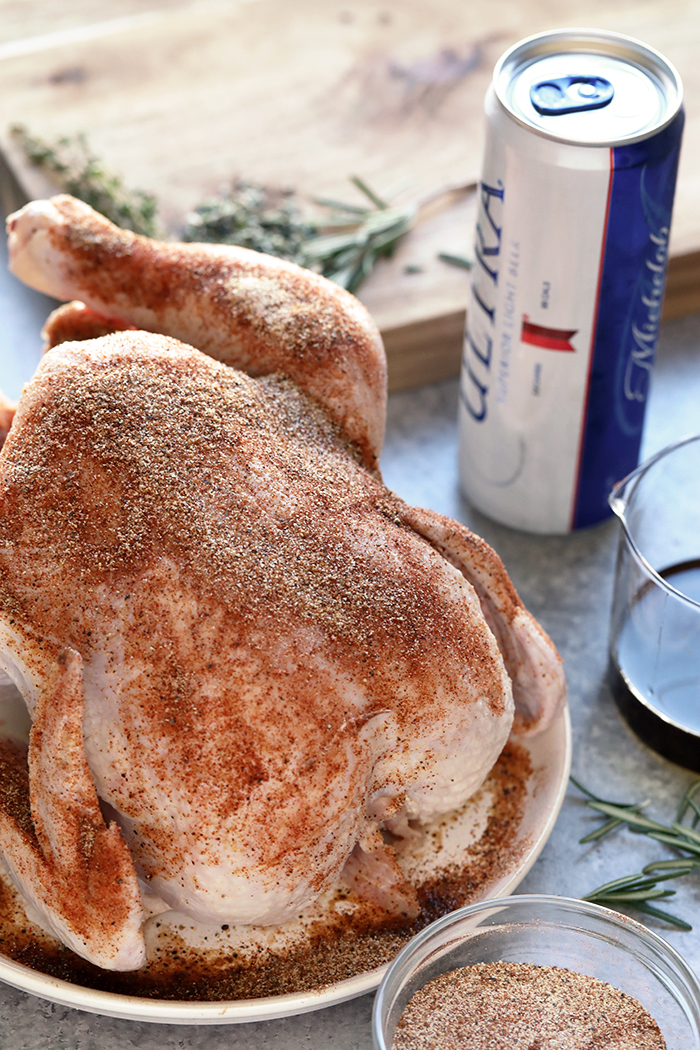beer can: (456, 26, 652, 536)
